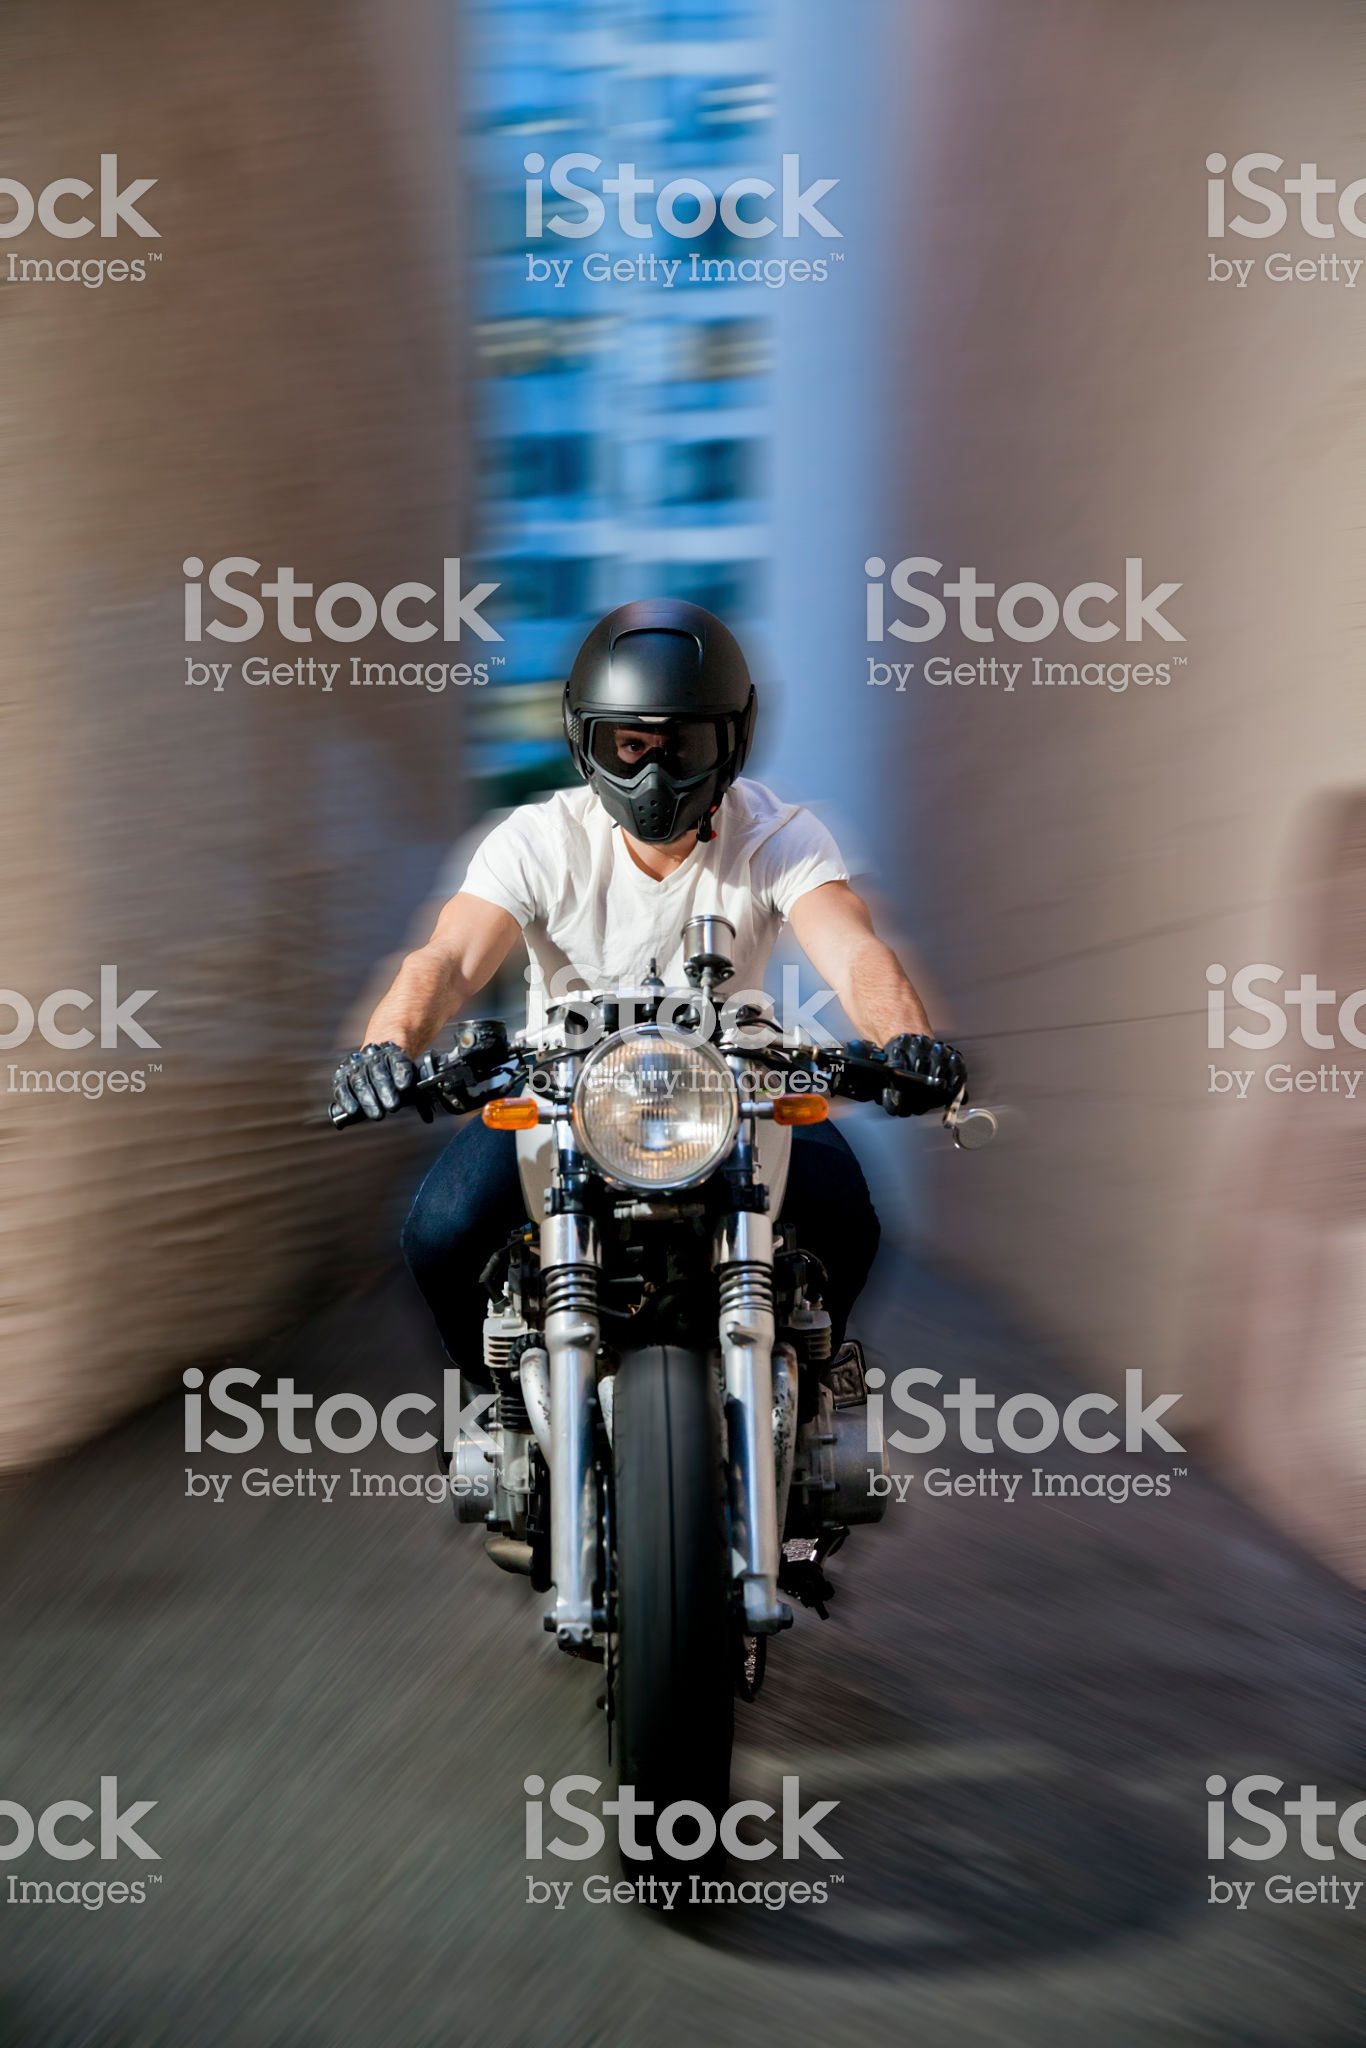helmet: (526, 550, 800, 901)
